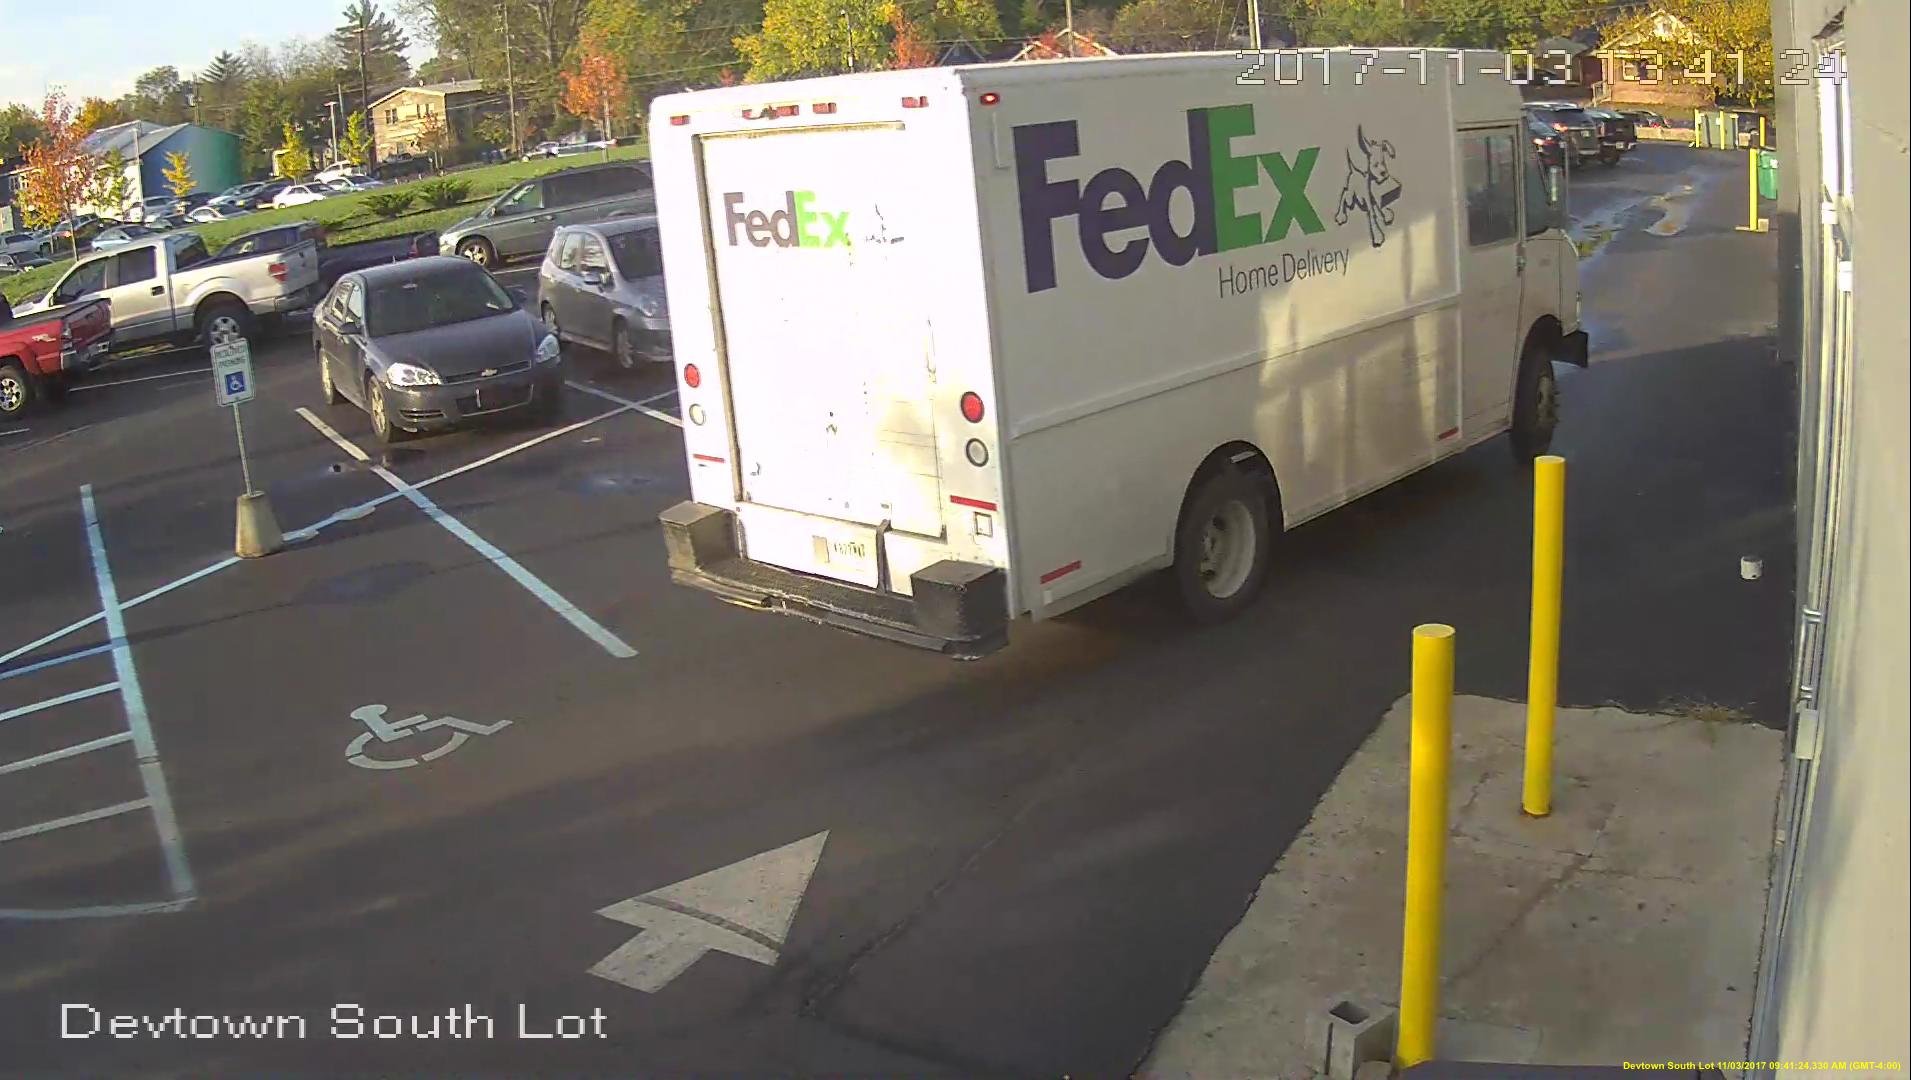fedex_truck: (650, 45, 1589, 661)
